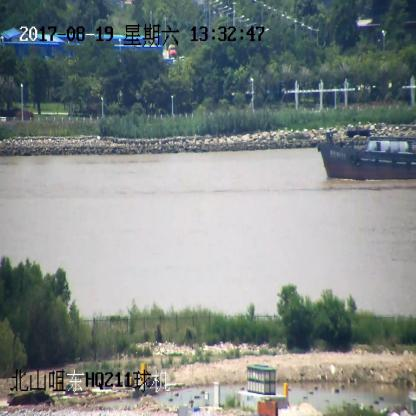Bulk Carrier: (318, 132, 416, 180)
